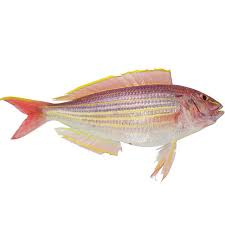Ikan Kerisi: (9, 79, 224, 153)
